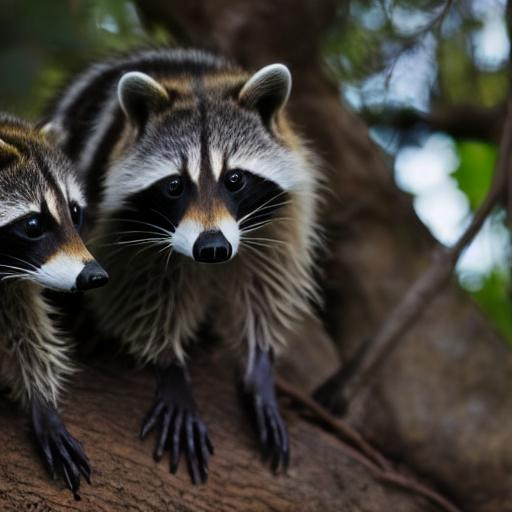raccoon: (47, 39, 331, 377), (0, 102, 118, 423)
